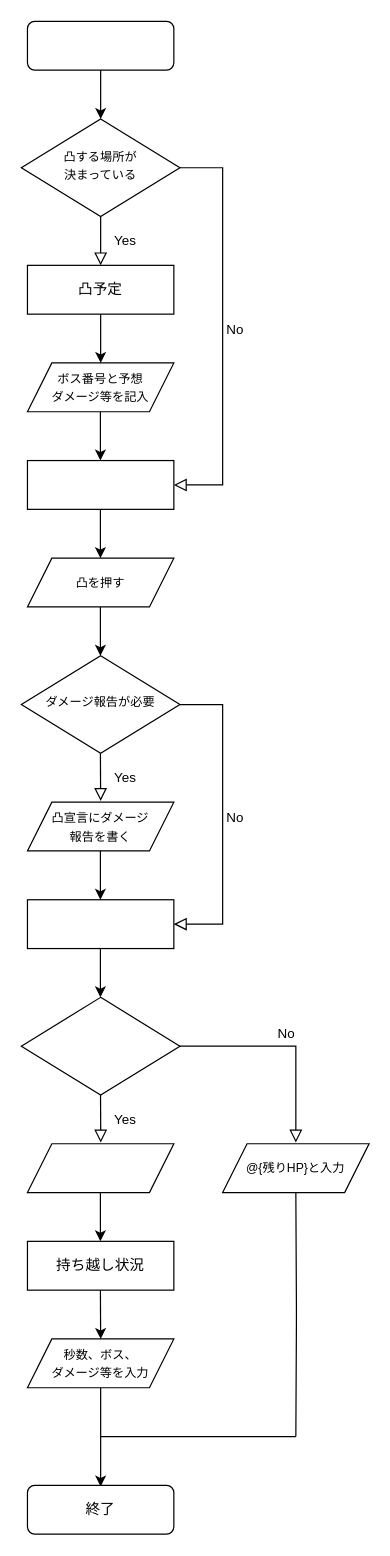
Image size: 390x1556. Some labels were removed from this diagram. Here are the shapes that lost their labels. From the top down, the box of each, then its label:
(26, 20, 174, 70): 開始
(26, 459, 174, 509): 凸宣言
(26, 899, 174, 949): 凸報告
(20, 996, 180, 1095): ボスを倒した
(26, 1143, 174, 1193): killと入力
